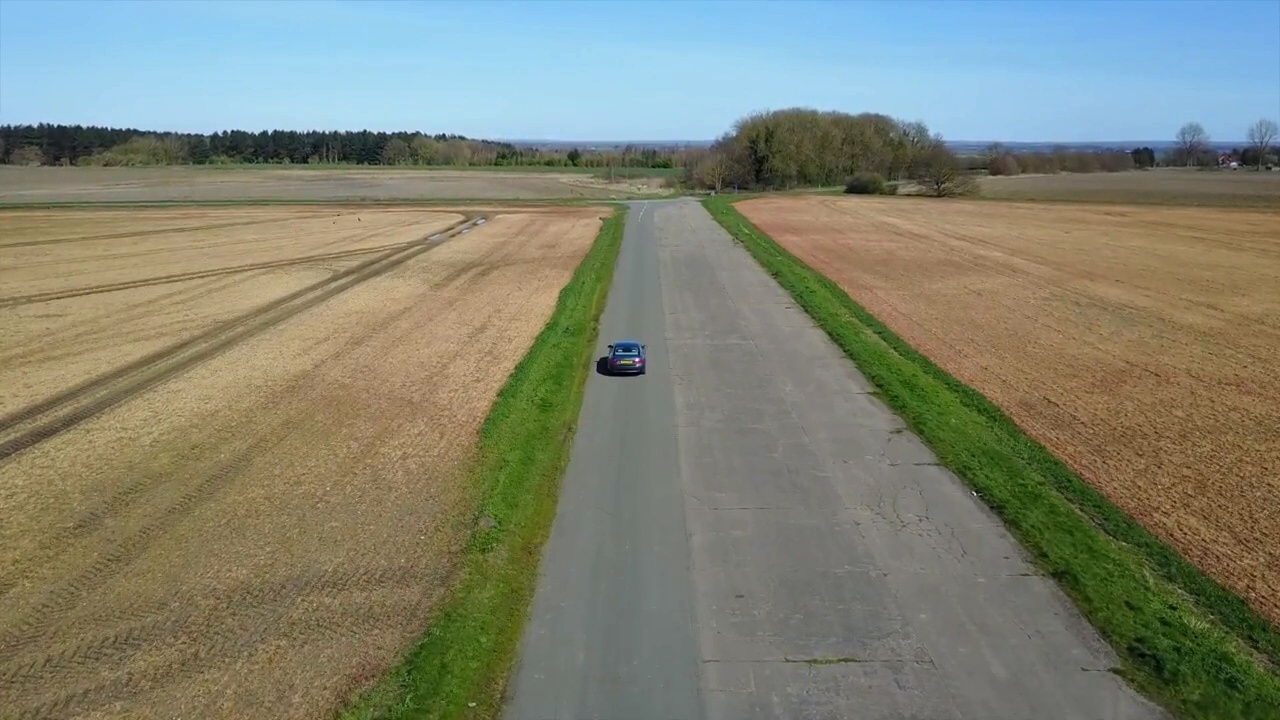araba: (604, 340, 649, 376)
